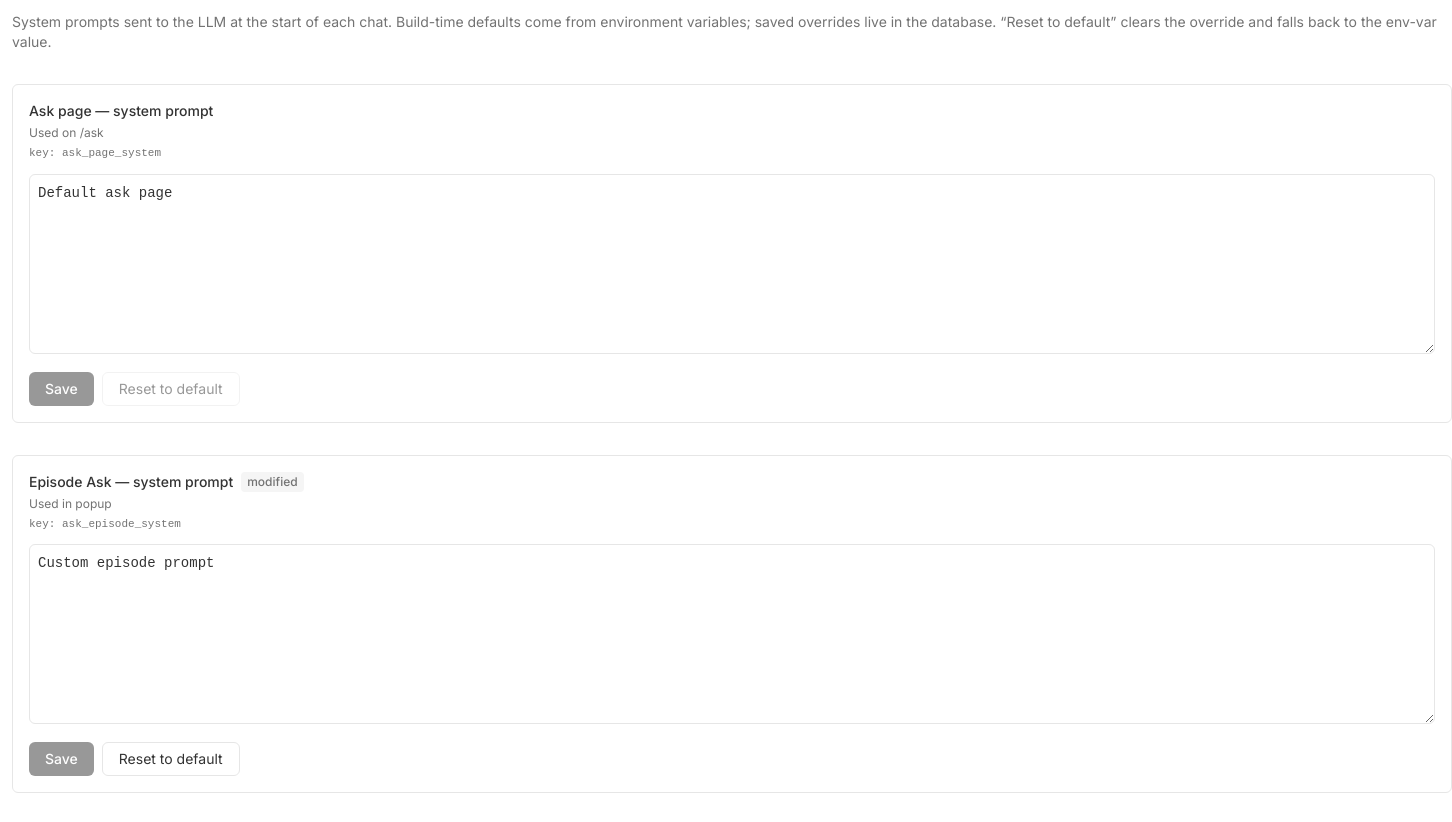
<PromptsSection> › shows the API detail when a save fails
Expected: the text "Ask page — system prompt" is shown, [29,101,213,121]
Replace the text in the text box below "ask_page_system" with "new value": (732,264) [29,174,1435,354]
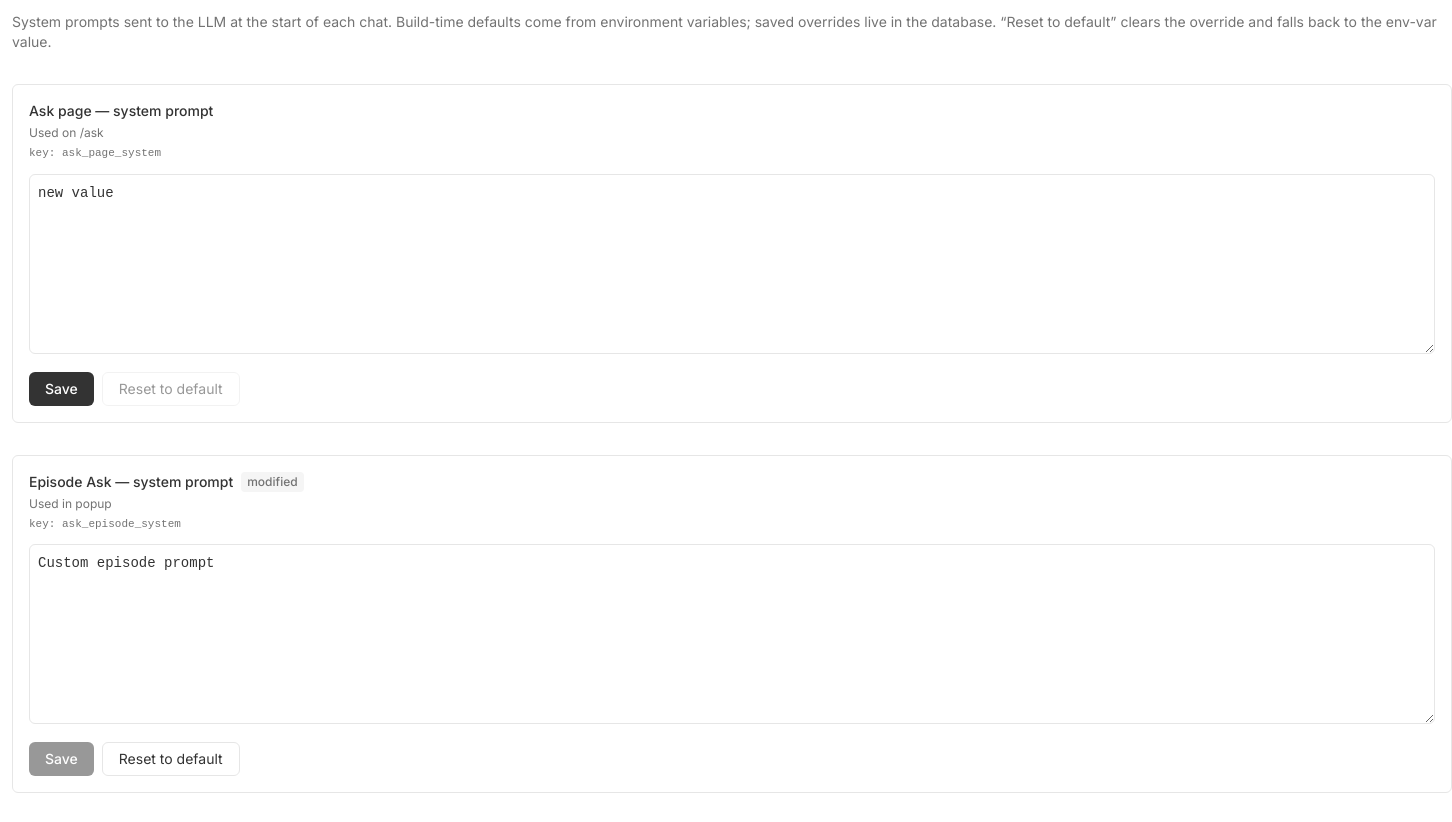
Click the button "Save" below "ask_page_system": (61,388) [29,372,94,406]
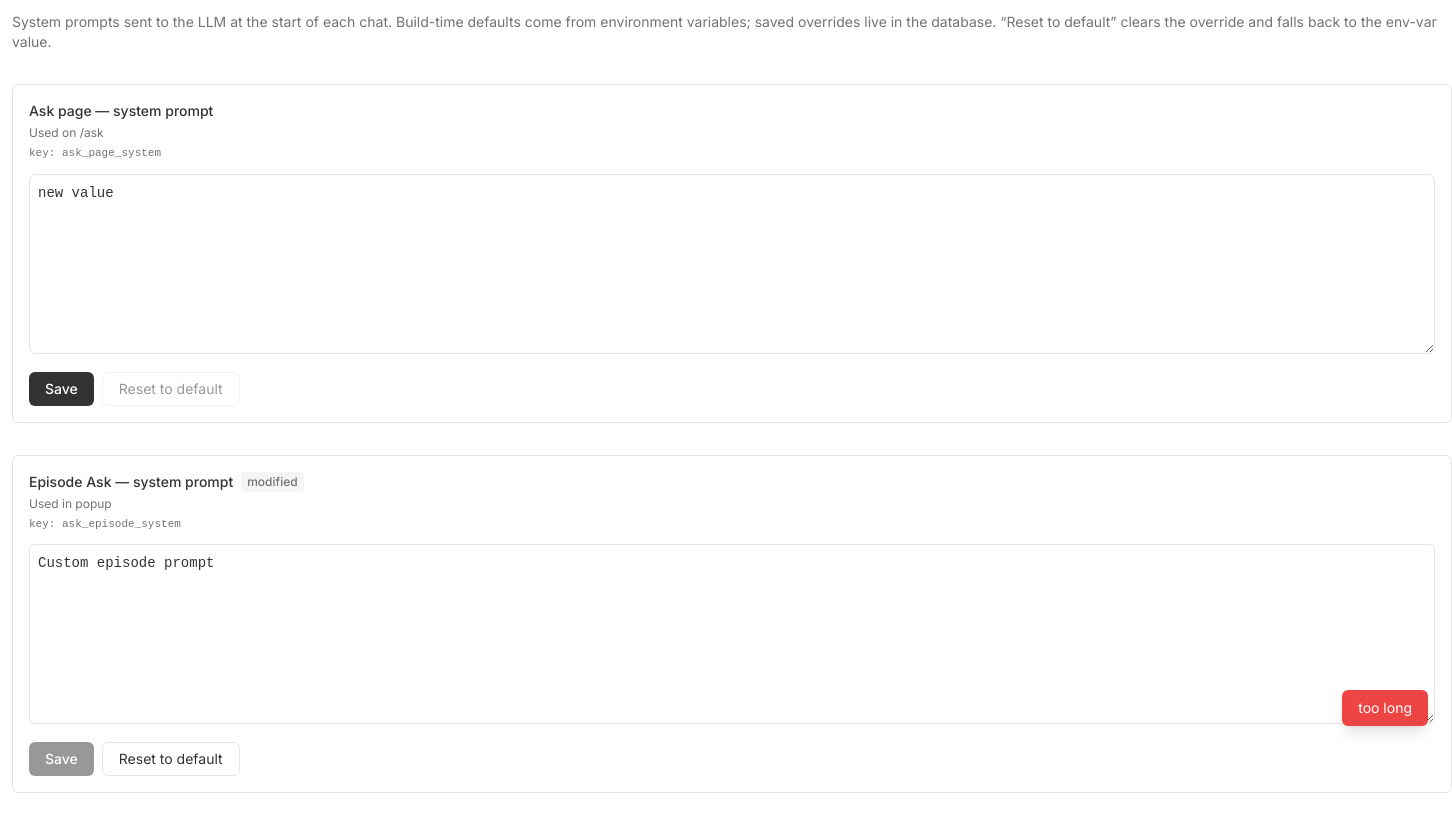
Expected: the text "too long" is shown, [1342,690,1428,726]
